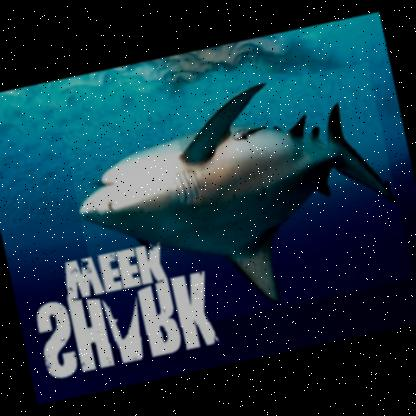bulldog-shark: (61, 60, 414, 342)
